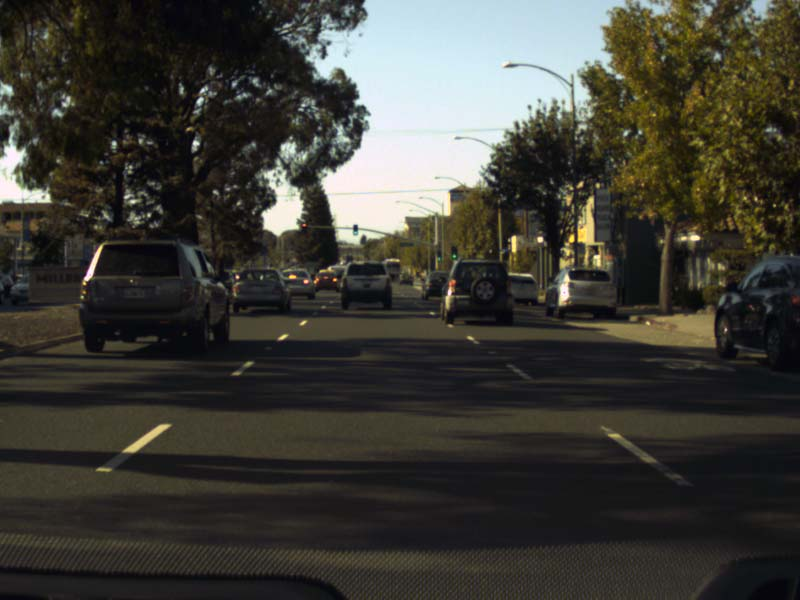Green: (450, 246, 457, 259), (436, 250, 440, 261), (353, 225, 357, 234)
Red: (301, 222, 306, 233)
